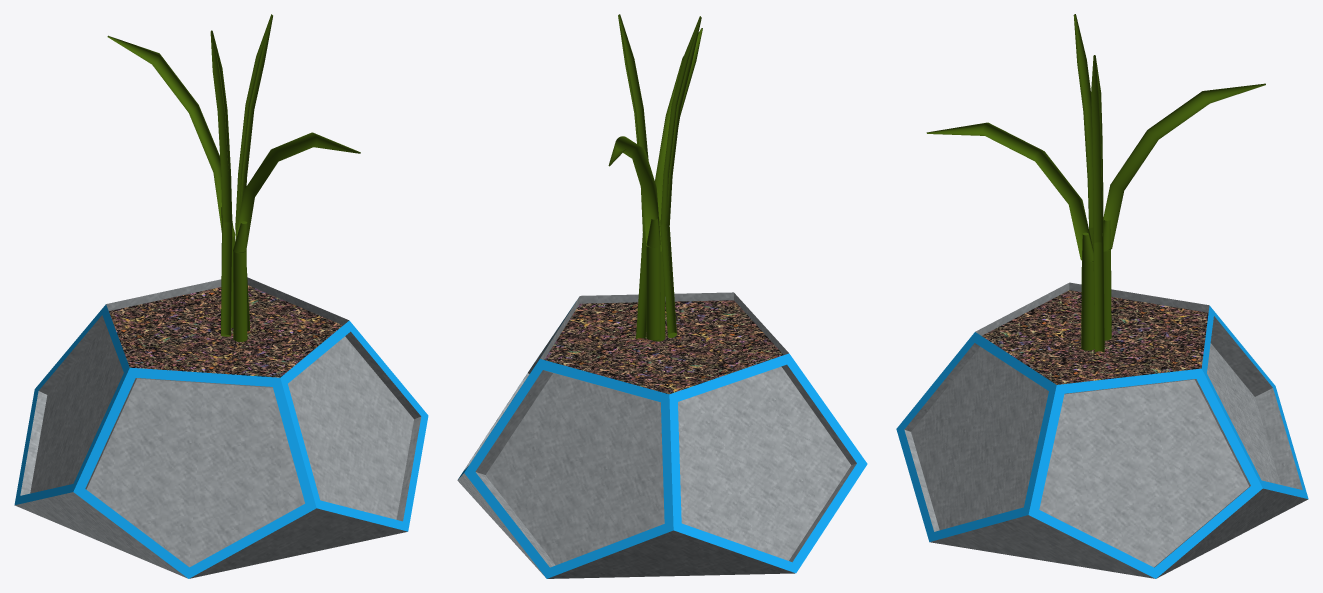
The model's file is cvetok.glb.
3 views of the same model, side by side, from view 1: azimuth 30°, elevation 25°; view 2: azimuth 150°, elevation 25°; view 3: azimuth 270°, elevation 25° (orthographic). The views are drawn at different scales.
Visible parts, largest first — view 1: Object_4, Plant, roślinka; view 2: Object_4, Plant, roślinka; view 3: Object_4, Plant, roślinka.
Part boxes in pixels (x1=…): Object_4: x1=14, y1=277, x2=428, y2=578; Plant: x1=107, y1=30, x2=360, y2=341; roślinka: x1=235, y1=14, x2=272, y2=330; Object_4: x1=457, y1=292, x2=867, y2=578; Plant: x1=608, y1=16, x2=702, y2=341; roślinka: x1=618, y1=14, x2=648, y2=339; Object_4: x1=896, y1=282, x2=1308, y2=578; Plant: x1=926, y1=14, x2=1265, y2=350; roślinka: x1=1091, y1=55, x2=1104, y2=352.
Size of the model in its own units: 0.557 by 0.7245 by 0.5759.
Materials: 4 (2 with a texture image).
